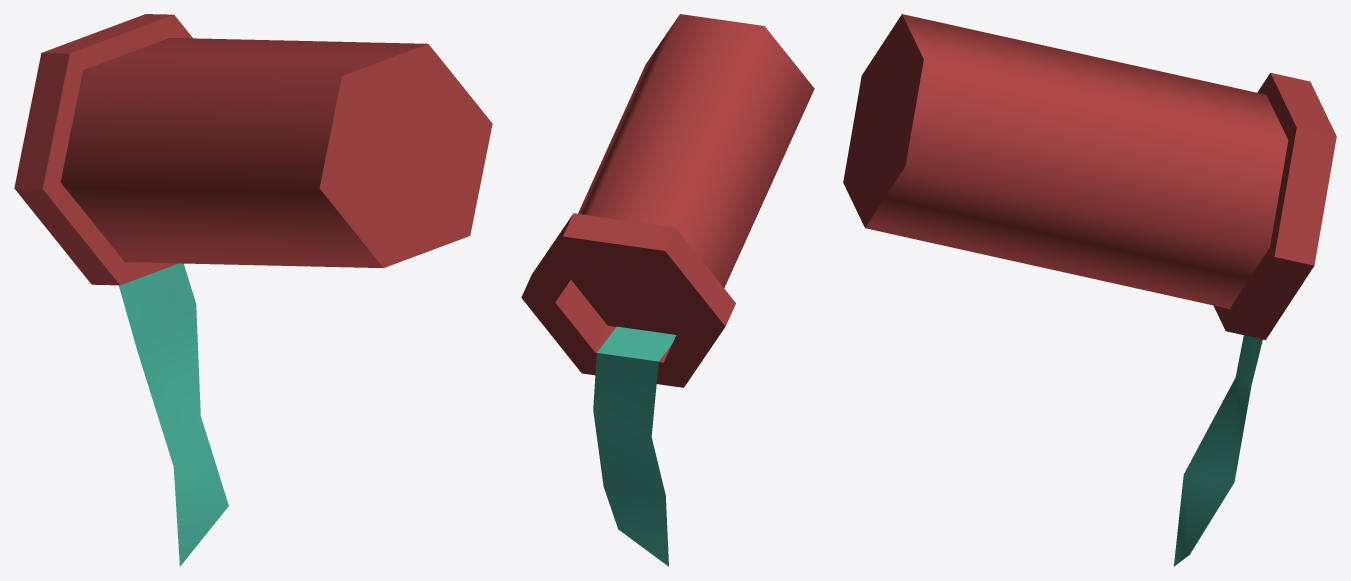
File: cozy_lake_pipe.glb
3 renders of one model, left to right at view 1: azimuth 30°, elevation 25°; view 2: azimuth 150°, elevation 25°; view 3: azimuth 270°, elevation 25°, orthographic. The views are drawn at different scales.
Visible parts, largest first — view 1: Pipe_Metal_0, Pipe_Water_0; view 2: Pipe_Metal_0, Pipe_Water_0; view 3: Pipe_Metal_0, Pipe_Water_0.
Boxes of the visible parts, x1,y1,x2,y2 form: Pipe_Metal_0: [14, 14, 492, 285]; Pipe_Water_0: [118, 263, 228, 566]; Pipe_Metal_0: [521, 14, 814, 387]; Pipe_Water_0: [593, 326, 676, 566]; Pipe_Metal_0: [843, 14, 1336, 339]; Pipe_Water_0: [1173, 335, 1262, 566].
Bounding box in the file's own units: 29.46 × 57.14 × 45.49.
